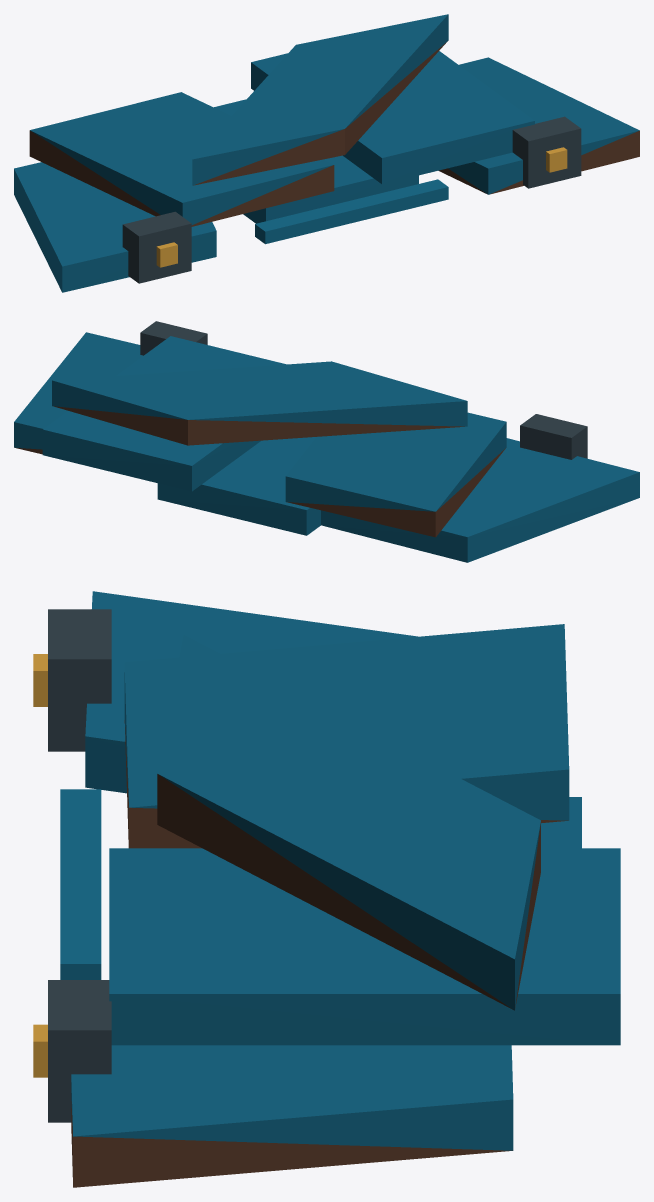
Rendered from scrap-planks-sky.glb.
The picture shows the model from 3 angles, top to bottom: view 1: azimuth 30°, elevation 25°; view 2: azimuth 150°, elevation 25°; view 3: azimuth 270°, elevation 25°; orthographic projection. The views are drawn at different scales.
Parts seen in each view (by area): view 1: scrap-planks-sky; view 2: scrap-planks-sky; view 3: scrap-planks-sky.
Boxes of the visible parts, x1=… form: scrap-planks-sky: x1=14, y1=14, x2=639, y2=292; scrap-planks-sky: x1=14, y1=321, x2=639, y2=562; scrap-planks-sky: x1=33, y1=591, x2=620, y2=1187.
Size of the model in its own units: 1.52 by 0.2 by 0.6915.
